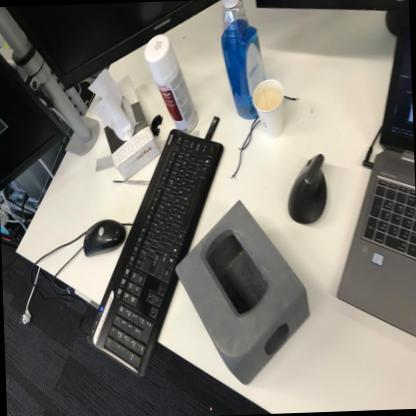CornerCasting: (171, 196, 312, 391)
